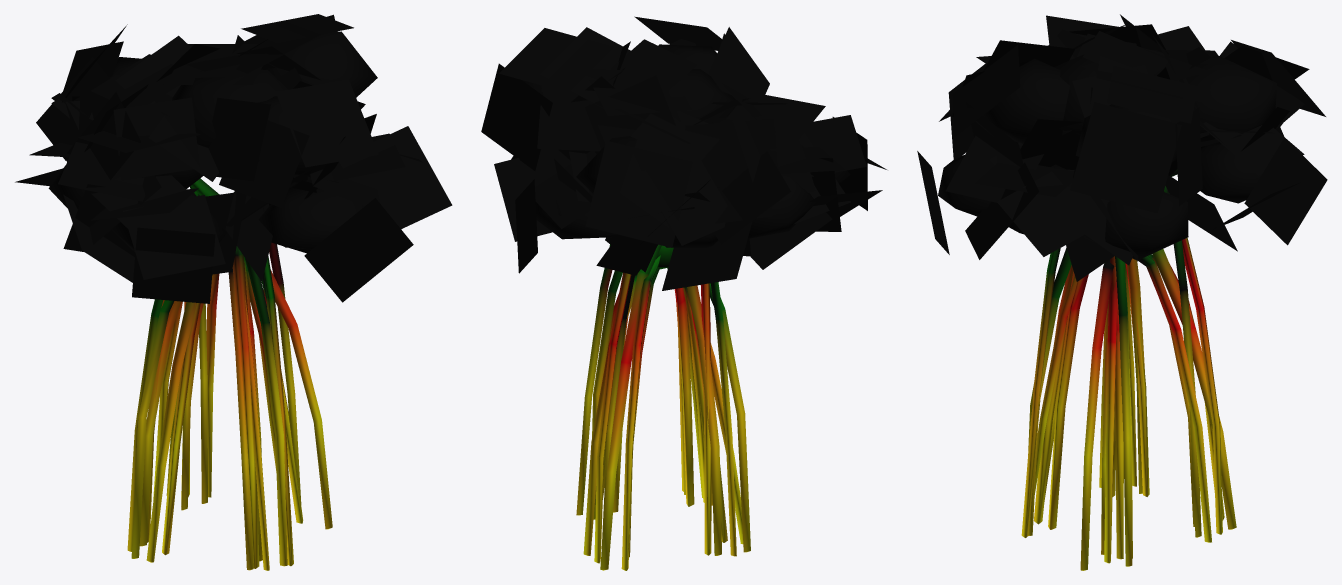
The model's file is mangrove_a_lo.glb.
The picture shows the model from 3 angles, left to right: view 1: azimuth 30°, elevation 25°; view 2: azimuth 150°, elevation 25°; view 3: azimuth 270°, elevation 25°; orthographic projection. The views are drawn at different scales.
Visible parts, largest first — view 1: mangrove_a_lo; view 2: mangrove_a_lo; view 3: mangrove_a_lo.
Part boxes in pixels (x1,y1,x2,y2): mangrove_a_lo: (15,14,452,570); mangrove_a_lo: (481,16,886,570); mangrove_a_lo: (917,14,1327,570).
Bounding box in the file's own units: 5.53 × 7.25 × 5.47.
